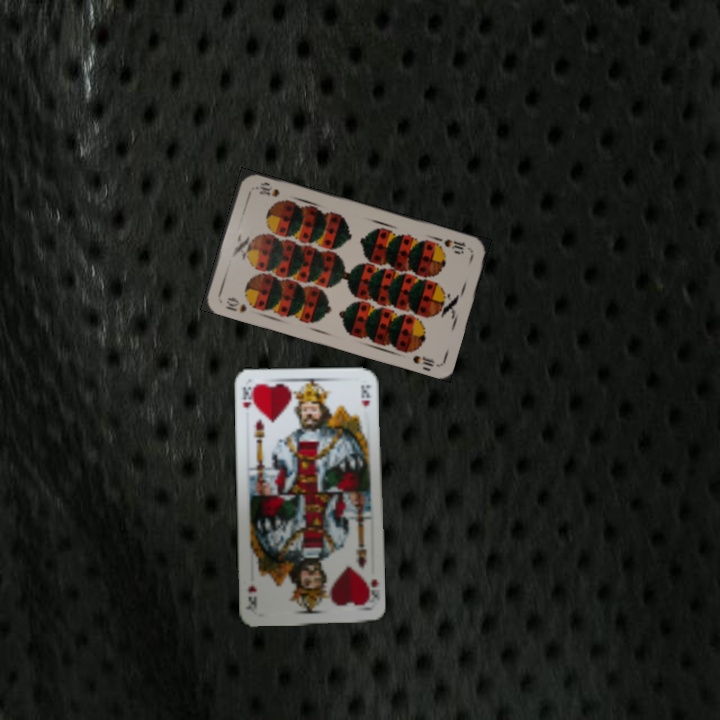HK: (238, 382, 257, 411), (366, 575, 381, 600)
S10: (222, 293, 249, 315), (440, 235, 468, 255)
